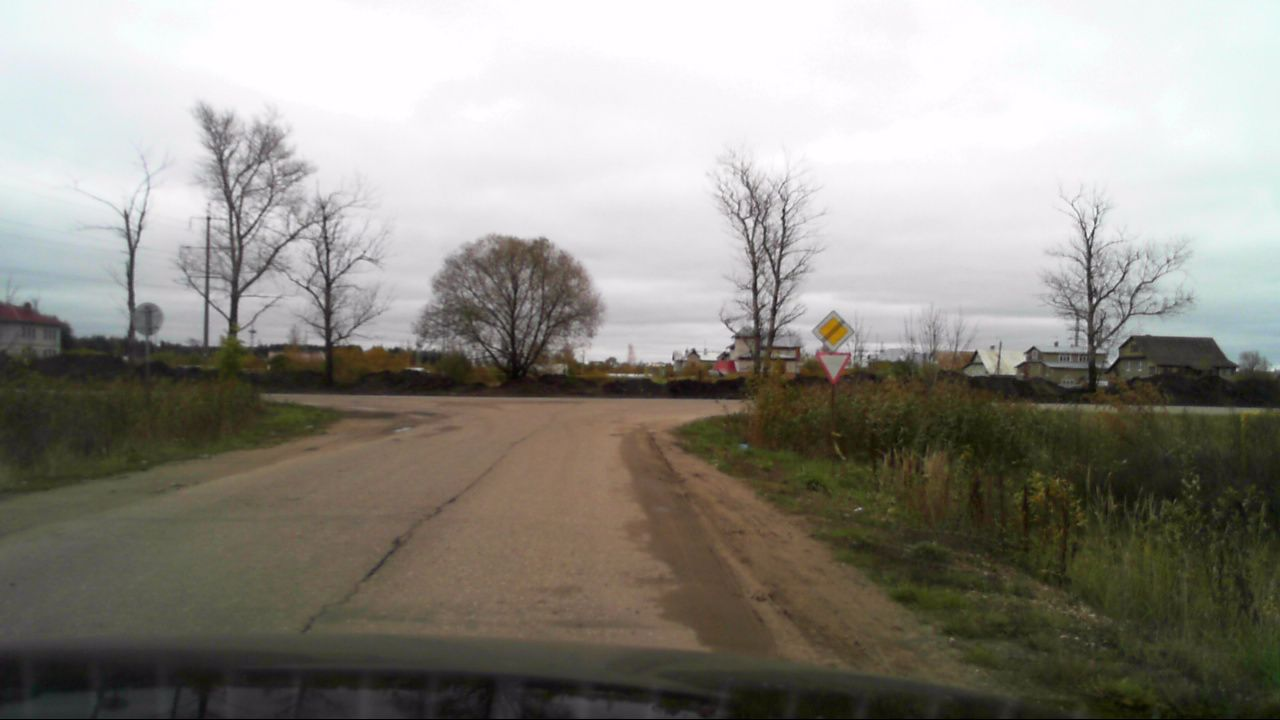main road: (812, 309, 856, 352)
